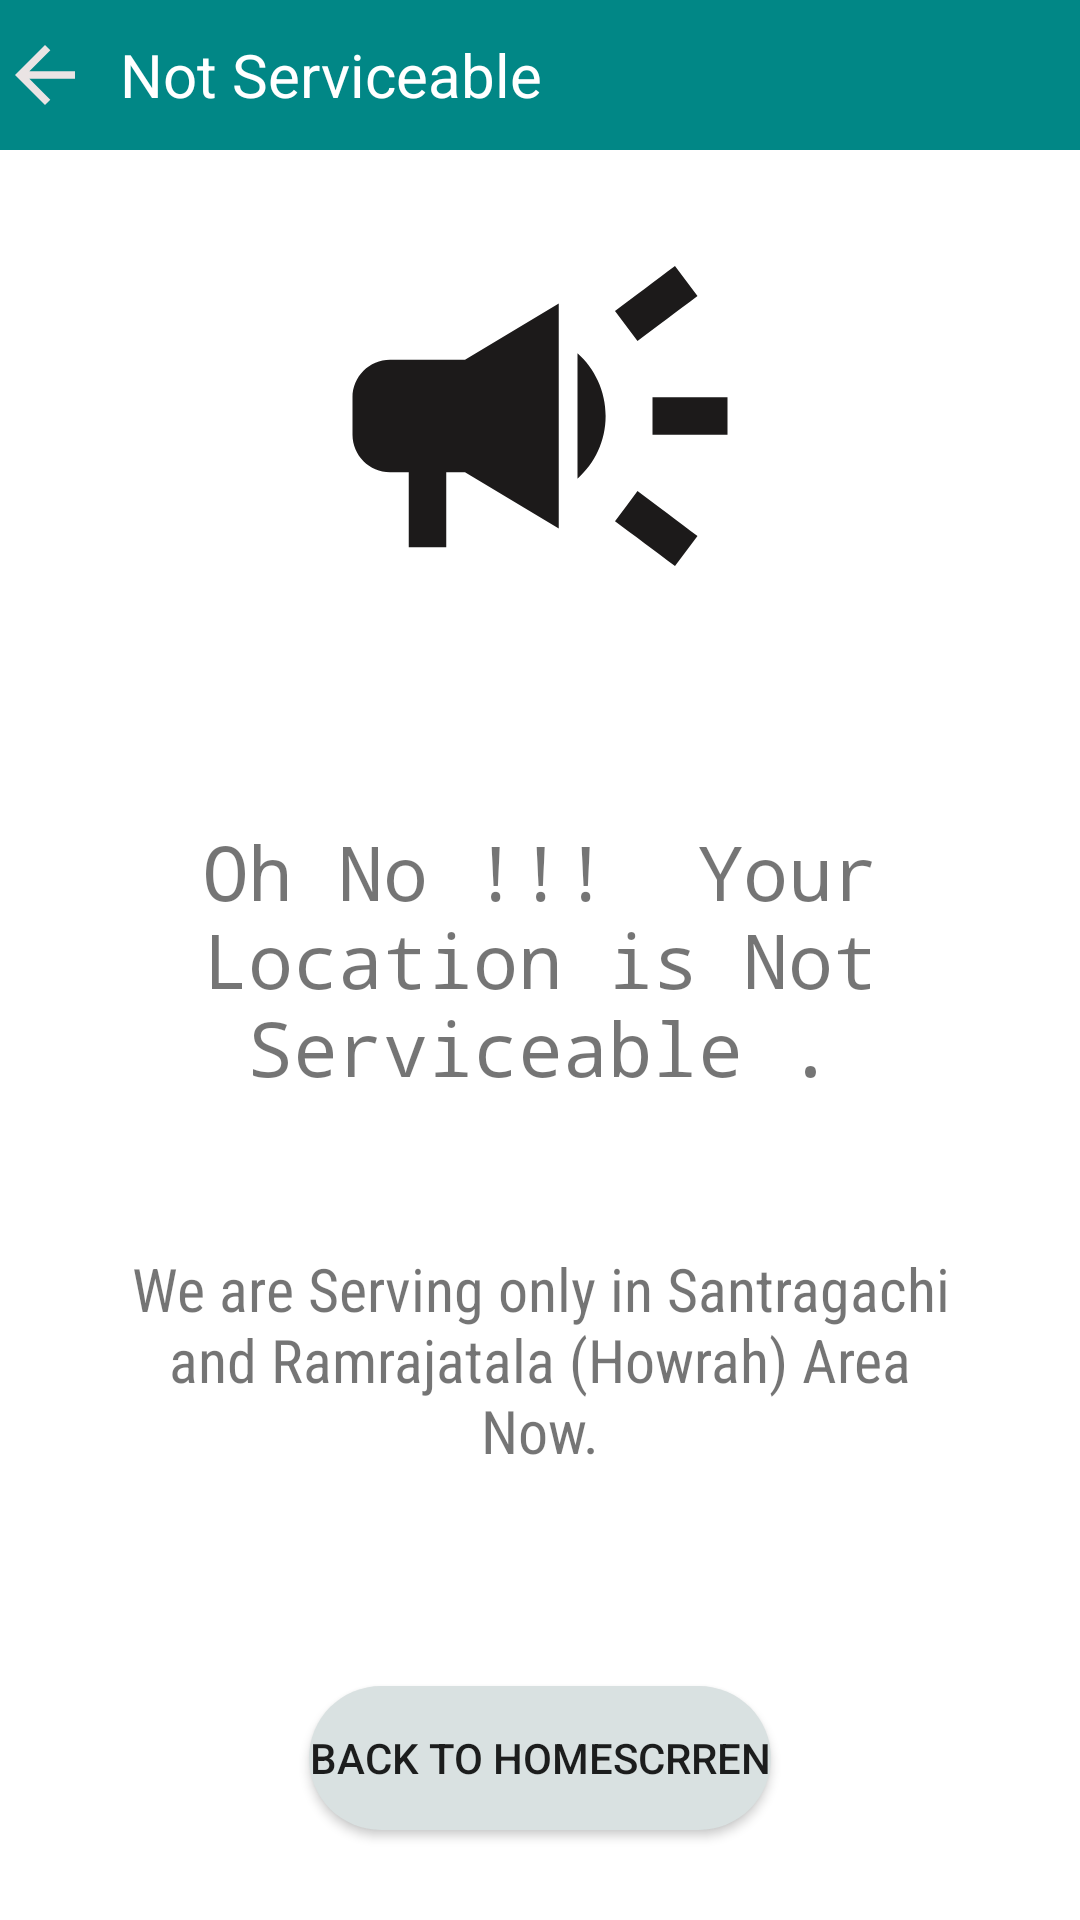

Where to tap for icons on this 1080w x 1920h app screen, as point (x, y):
back: point (45, 75)
